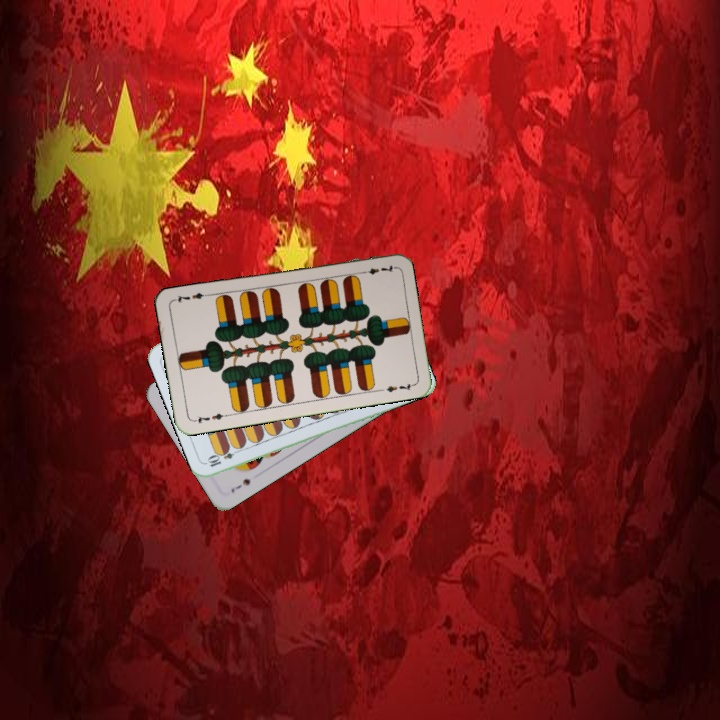E10: (204, 444, 243, 470)
E7: (189, 409, 230, 426), (356, 261, 397, 277)
S7: (227, 475, 253, 495)
